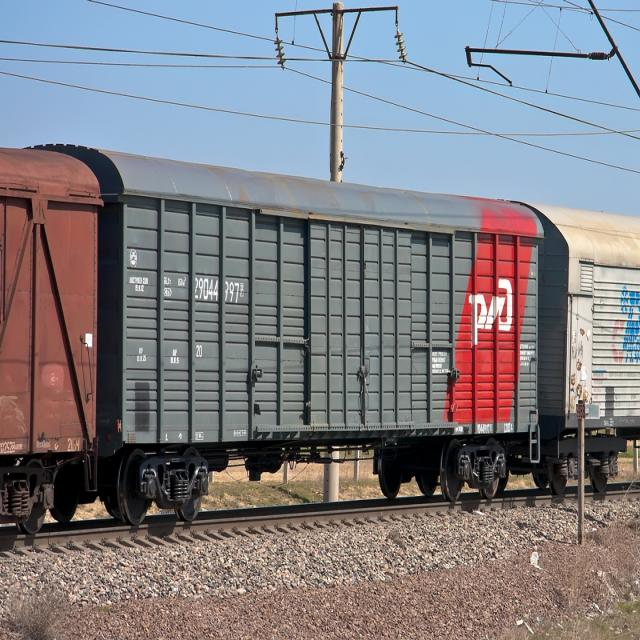boxcar: (96, 143, 546, 528), (0, 126, 106, 532), (542, 200, 640, 491)
